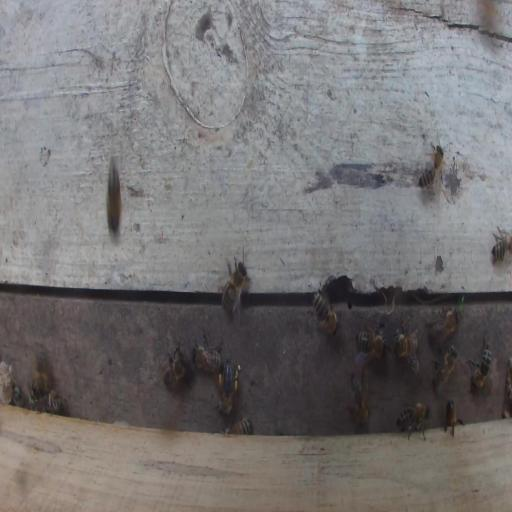nonpollenbee: (98, 157, 126, 238), (307, 280, 340, 336), (220, 256, 248, 313), (191, 328, 225, 374), (419, 130, 445, 190), (424, 304, 460, 347), (466, 334, 493, 390), (345, 365, 370, 425), (355, 321, 389, 365), (430, 344, 459, 395), (396, 402, 432, 441), (162, 346, 189, 388), (391, 329, 420, 366), (34, 387, 64, 419), (491, 225, 511, 266), (445, 399, 466, 438), (34, 344, 48, 396), (220, 418, 251, 433), (11, 384, 27, 408)
pollenbee: (218, 358, 239, 419)
